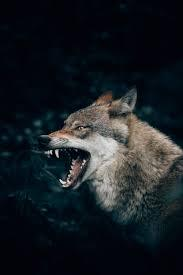Wolf: (38, 83, 181, 253)
